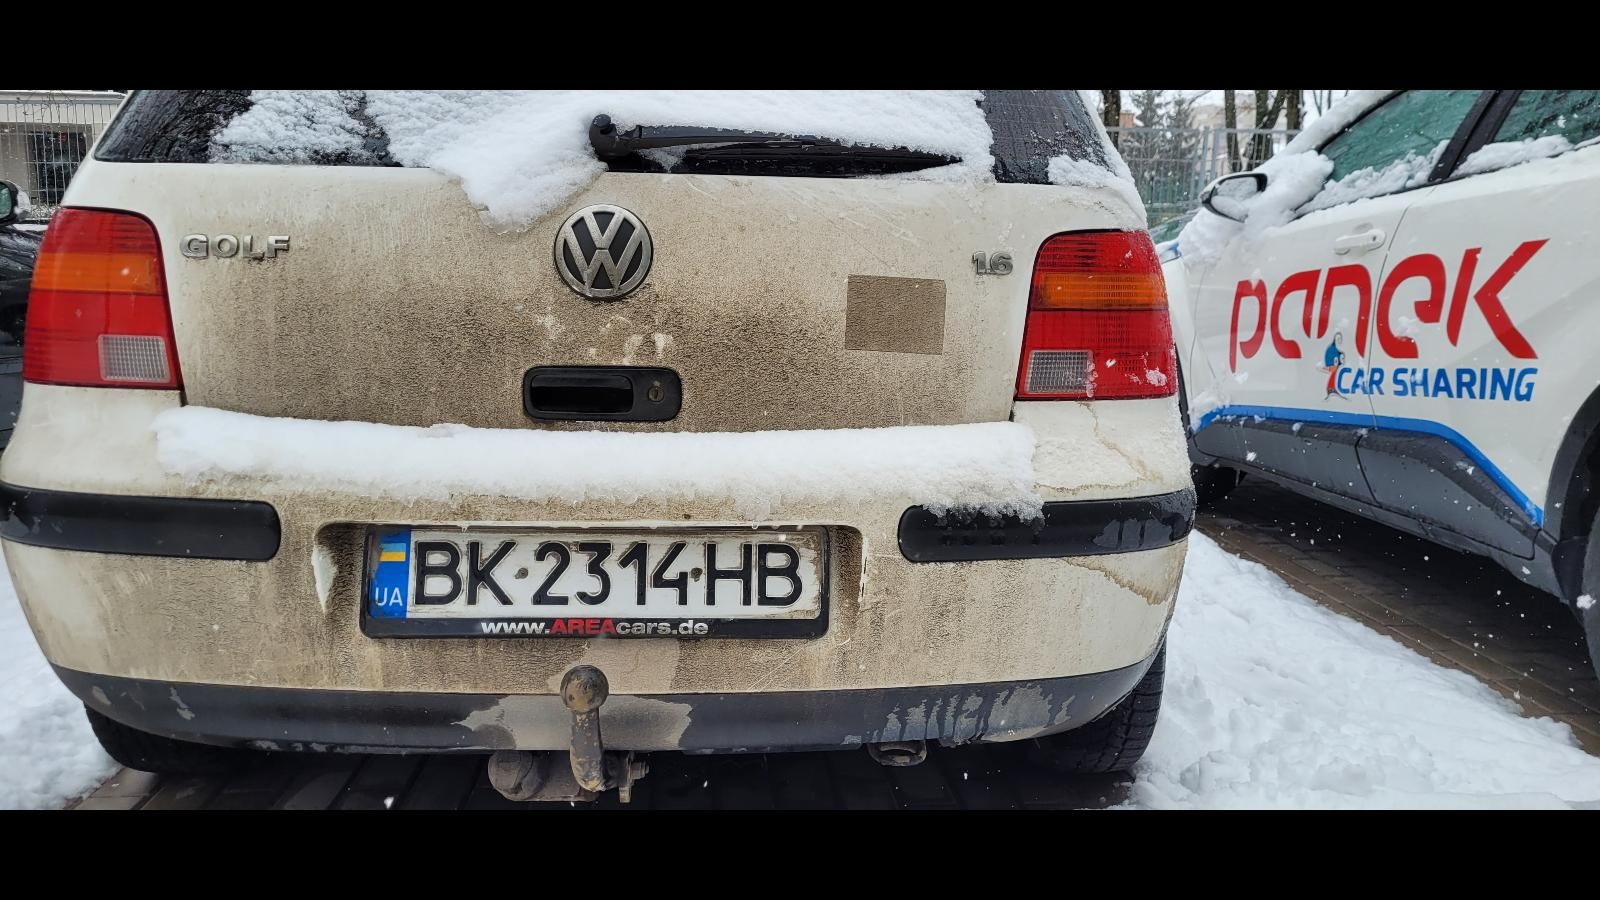plates: (359, 524, 830, 638)
